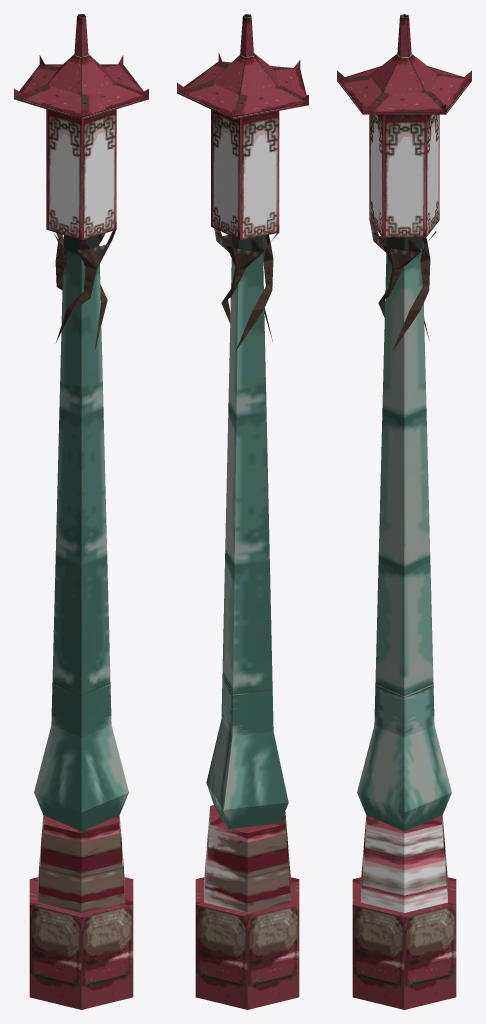
The model's file is chinalamp_sf.obj.
3 renders of one model, left to right at view 1: azimuth 90°, elevation 25°; view 2: azimuth 150°, elevation 25°; view 3: azimuth 270°, elevation 25°, orthographic.
Visible parts, largest first — view 1: chinalamp_sf; view 2: chinalamp_sf; view 3: chinalamp_sf.
Part boxes in pixels (box(x1,y1,x2,y2)): chinalamp_sf: box(14, 14, 148, 1009); chinalamp_sf: box(177, 14, 308, 1009); chinalamp_sf: box(337, 14, 471, 1009).
Bounding box in the file's own units: 0.4971 × 4.07 × 0.513.
Materials: 1 (1 with a texture image).
